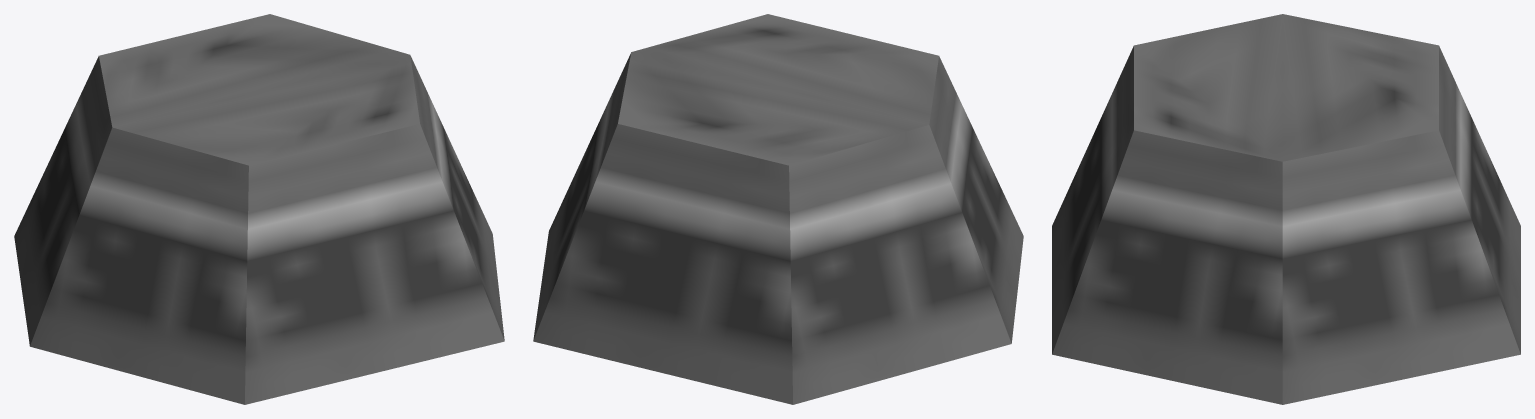
3 views of the same model, side by side, from view 1: azimuth 30°, elevation 25°; view 2: azimuth 150°, elevation 25°; view 3: azimuth 270°, elevation 25° (orthographic).
Parts seen in each view (by area): view 1: root; view 2: root; view 3: root.
Boxes of the visible parts, bbox=[...] form: root: bbox=[14, 14, 504, 404]; root: bbox=[533, 14, 1023, 404]; root: bbox=[1052, 14, 1520, 404].
Bounding box in the file's own units: 0.1426 × 0.0586 × 0.123.
Materials: 1 (1 with a texture image).
